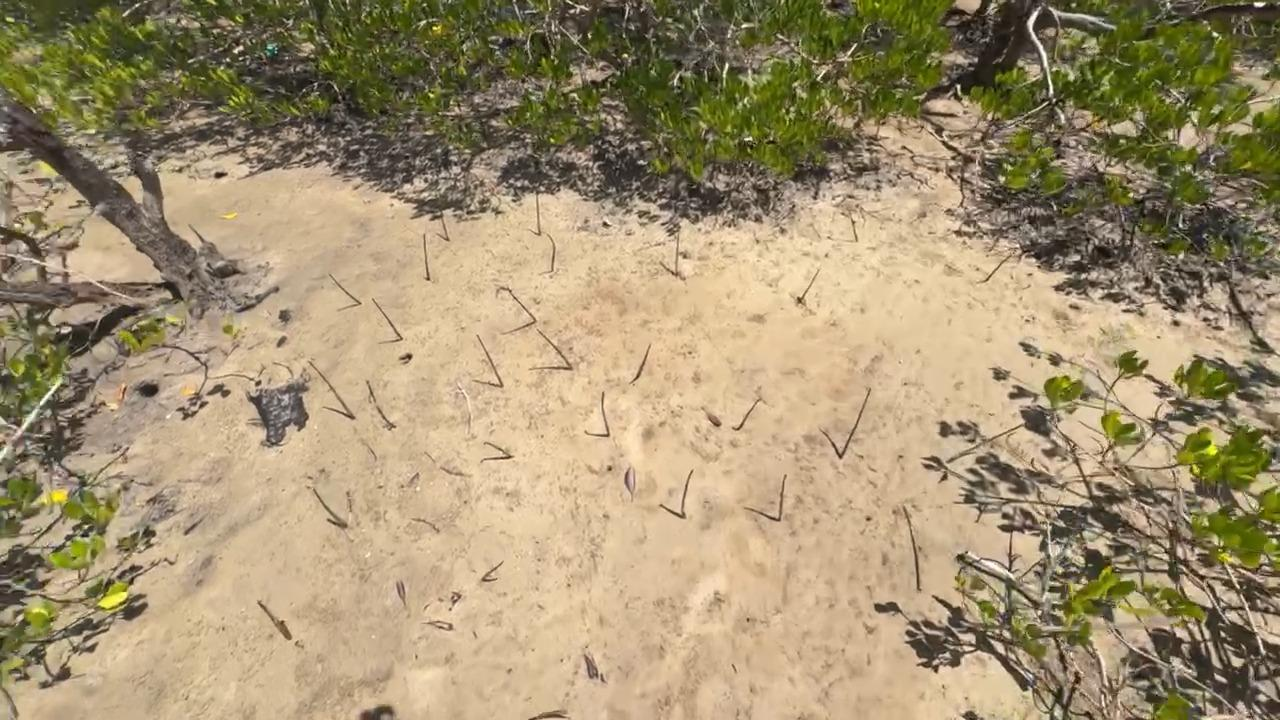Tree: (306, 359, 355, 420), (840, 387, 871, 458), (476, 334, 504, 388), (903, 506, 921, 590), (536, 328, 572, 369), (256, 600, 291, 640), (372, 298, 403, 340), (313, 488, 346, 526), (507, 284, 537, 323), (328, 273, 361, 304), (982, 252, 1013, 283), (798, 268, 820, 303), (738, 399, 762, 430), (680, 469, 694, 519), (636, 344, 652, 379), (481, 559, 504, 582), (376, 404, 396, 430), (483, 441, 512, 458), (778, 473, 787, 520), (546, 233, 556, 272), (601, 391, 609, 436), (188, 222, 205, 243), (423, 233, 430, 281), (441, 211, 450, 241), (535, 192, 541, 236), (366, 381, 377, 403), (675, 230, 680, 277), (851, 216, 858, 242)
